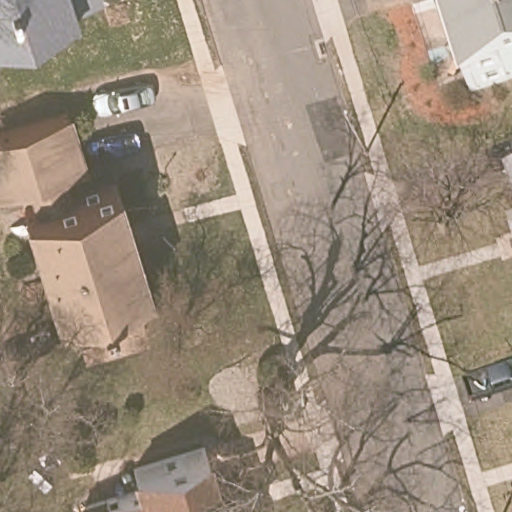DT: (342, 106, 370, 156)
